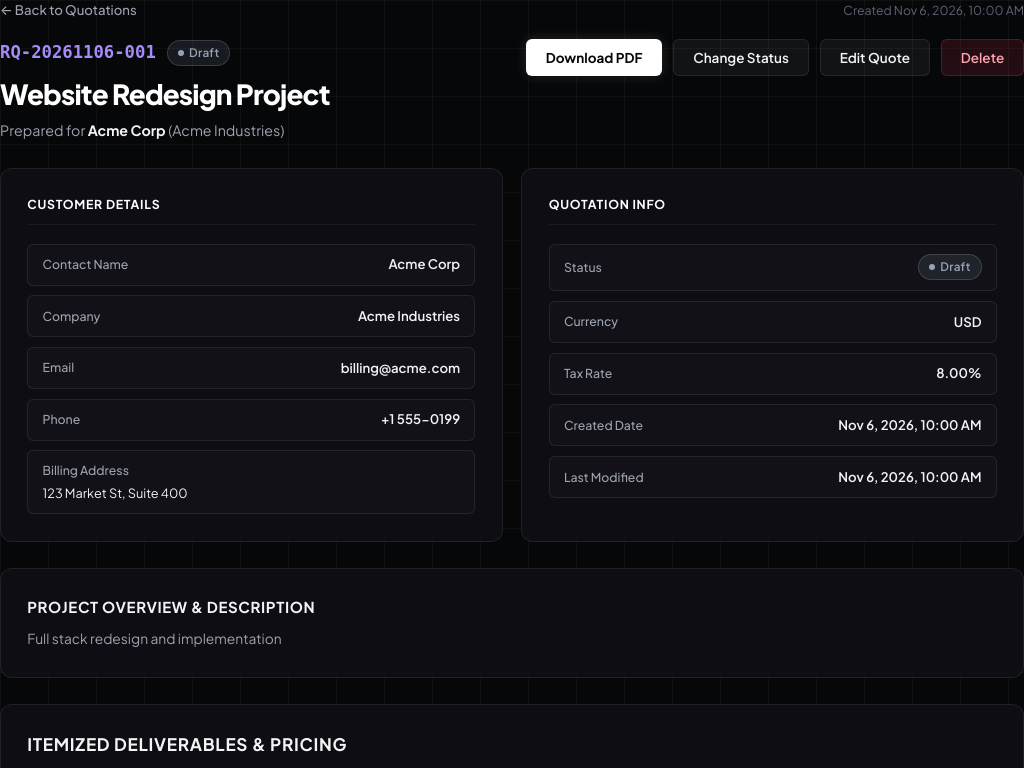
Test: QuotationDetailPage › opens status transition modal and updates quotation status
Expected: the text "RQ-20261106-001" is shown, [0,39,156,66]
Open status modal
Click the button "Change Status" at [741, 58], box [674,39,809,76]
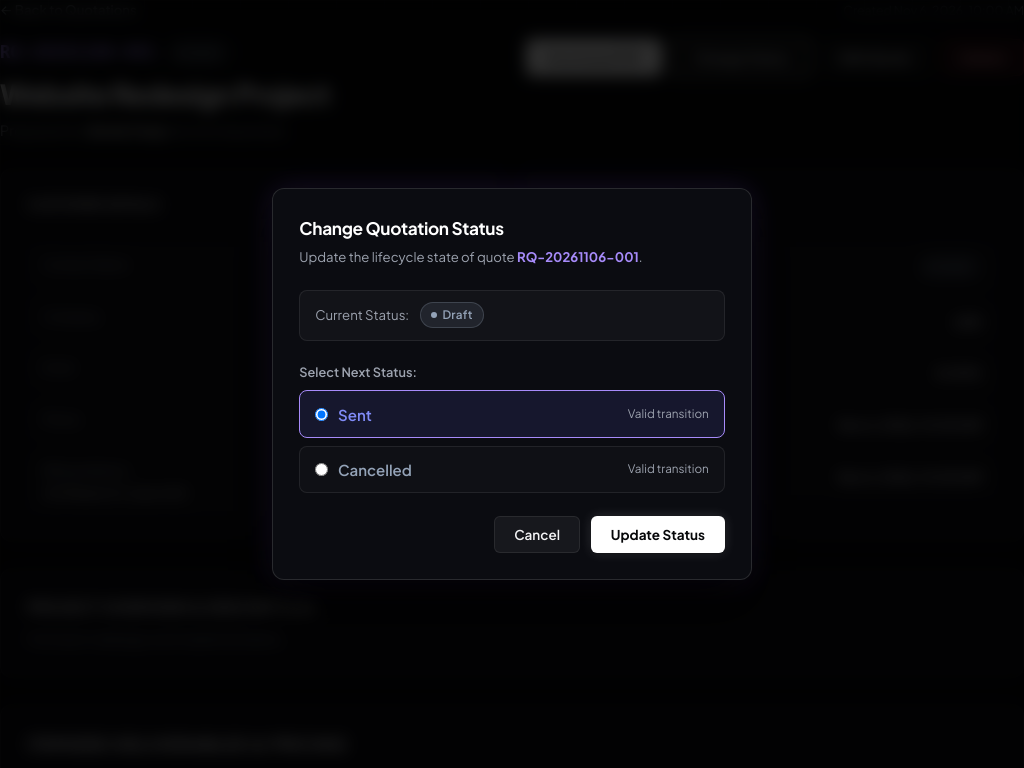
Result: the heading "Change Quotation Status" is shown at [299,217,504,239]
Result: the text "Select Next Status:" is shown at [299,364,417,380]
Click the button "Update Status" at [658, 534], box [591,516,725,553]
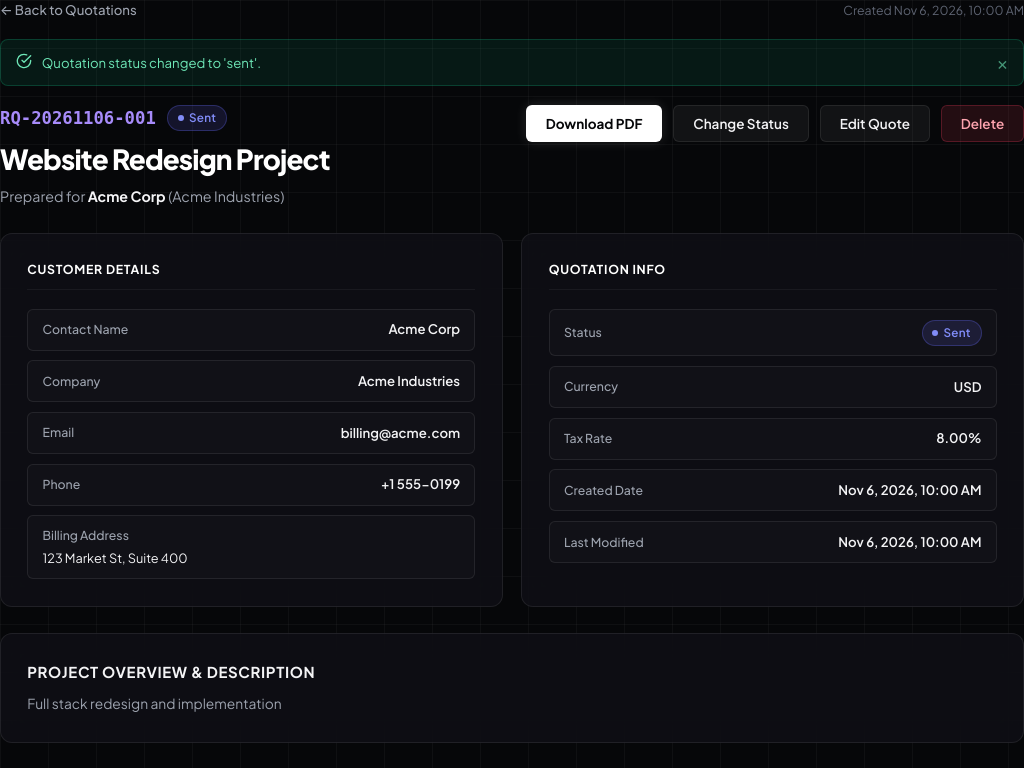
Result: the text "Quotation status changed to 'sent'." is shown at [42,53,261,72]
